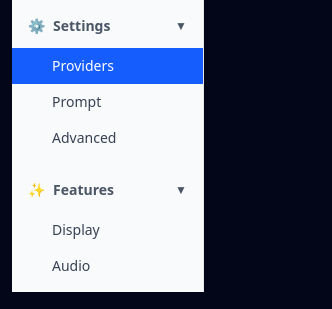
Test: SettingsSidebar › can collapse and expand sections
The width and height of the screenshot is (332, 309).
expect the button "Providers" is shown: met, box [12,48,203,84]
# Click Settings section header to collapse
Step 1. Click the text "Settings" → (82, 26), box [53,16,110,36]
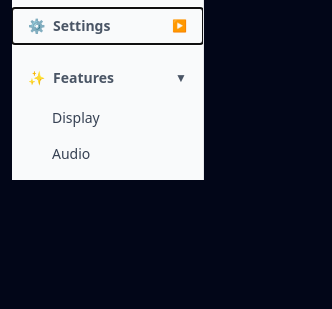
expect the button "Providers" is gone: met
# Click again to expand
Step 2. Click the text "Settings" → (82, 26), box [53,16,110,36]
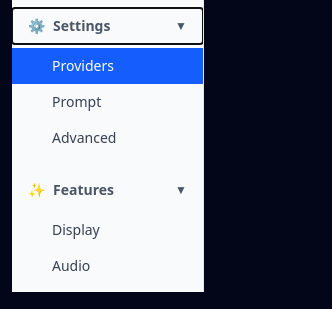
expect the button "Providers" is shown: met, box [12,48,203,84]
